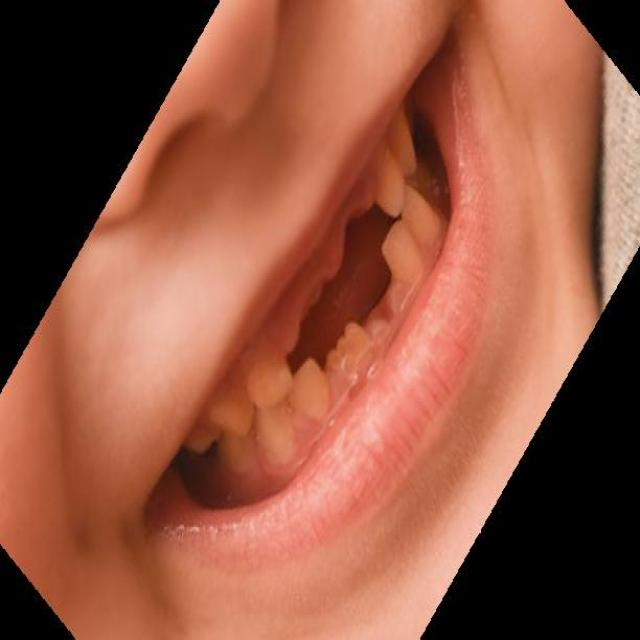caries: (321, 316, 371, 378)
